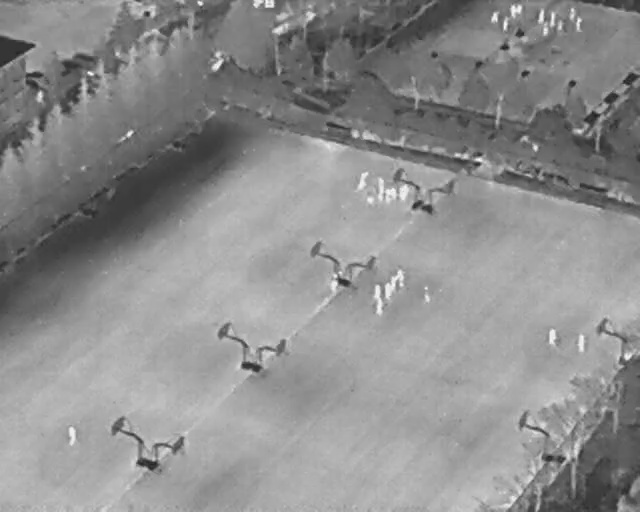Car: (70, 47, 101, 68), (59, 56, 85, 74), (24, 75, 46, 94), (26, 68, 44, 80)
Person: (355, 170, 370, 193), (66, 423, 79, 448), (576, 332, 586, 355), (330, 272, 340, 294), (398, 182, 409, 202), (547, 327, 557, 348), (377, 176, 385, 202), (422, 285, 431, 305), (567, 5, 577, 22), (489, 10, 501, 24), (390, 275, 399, 293), (375, 300, 385, 316), (397, 268, 405, 288), (383, 282, 392, 299), (537, 7, 546, 24), (372, 285, 381, 301), (549, 10, 556, 29), (385, 187, 392, 204), (575, 17, 582, 32), (556, 21, 565, 32), (390, 186, 396, 201), (542, 21, 548, 36), (503, 17, 509, 32), (515, 5, 524, 15), (510, 3, 516, 18), (367, 195, 374, 205)
